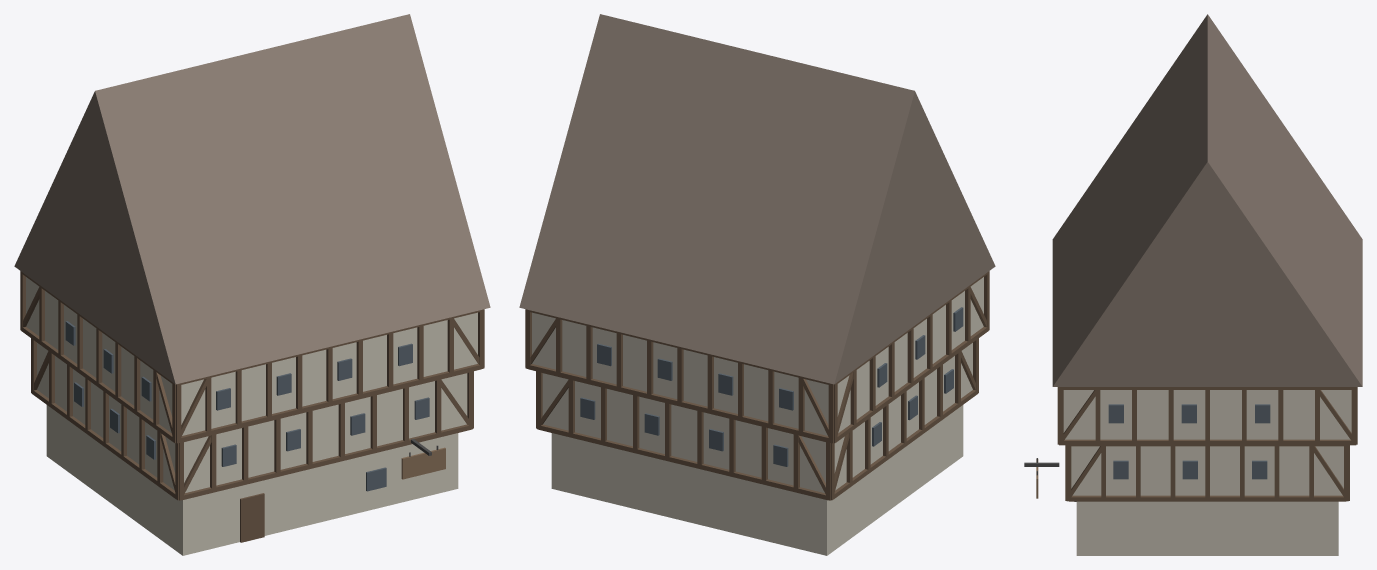
File: m_rathaus.glb
3 views of the same model, side by side, from view 1: azimuth 30°, elevation 25°; view 2: azimuth 150°, elevation 25°; view 3: azimuth 270°, elevation 25° (orthographic). The views are drawn at different scales.
Visible parts, largest first — view 1: koerper; view 2: koerper; view 3: koerper.
Boxes of the visible parts, box(x1,y1,x2,y2) form: koerper: box(14, 14, 490, 555); koerper: box(519, 14, 995, 555); koerper: box(1024, 14, 1362, 555).
Size of the model in its own units: 16 by 20.39 by 15.5.
